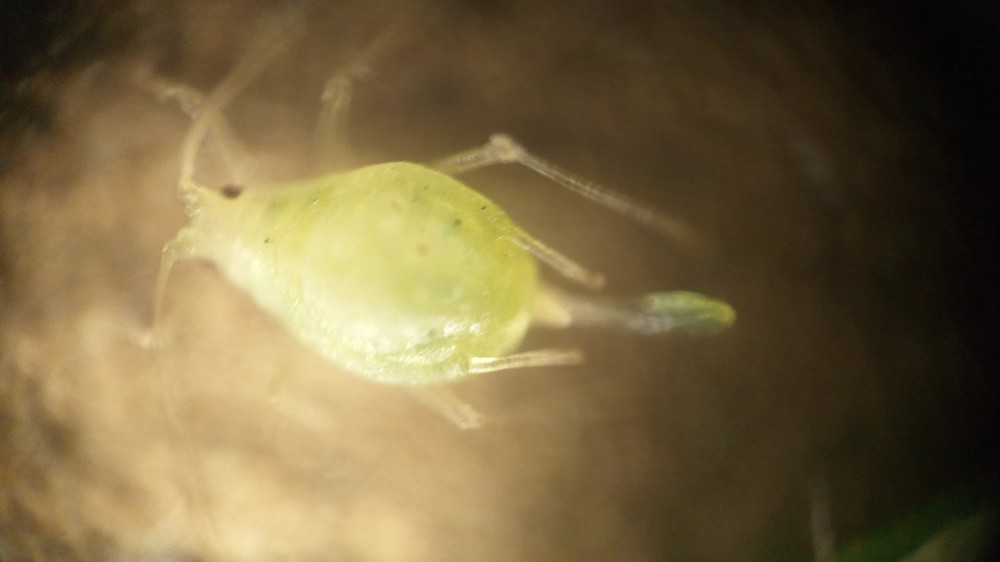Pulgon: (107, 37, 750, 495)
